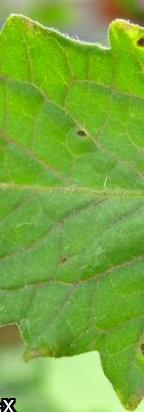Tomato leaf bacterial spot: (0, 12, 144, 390)
